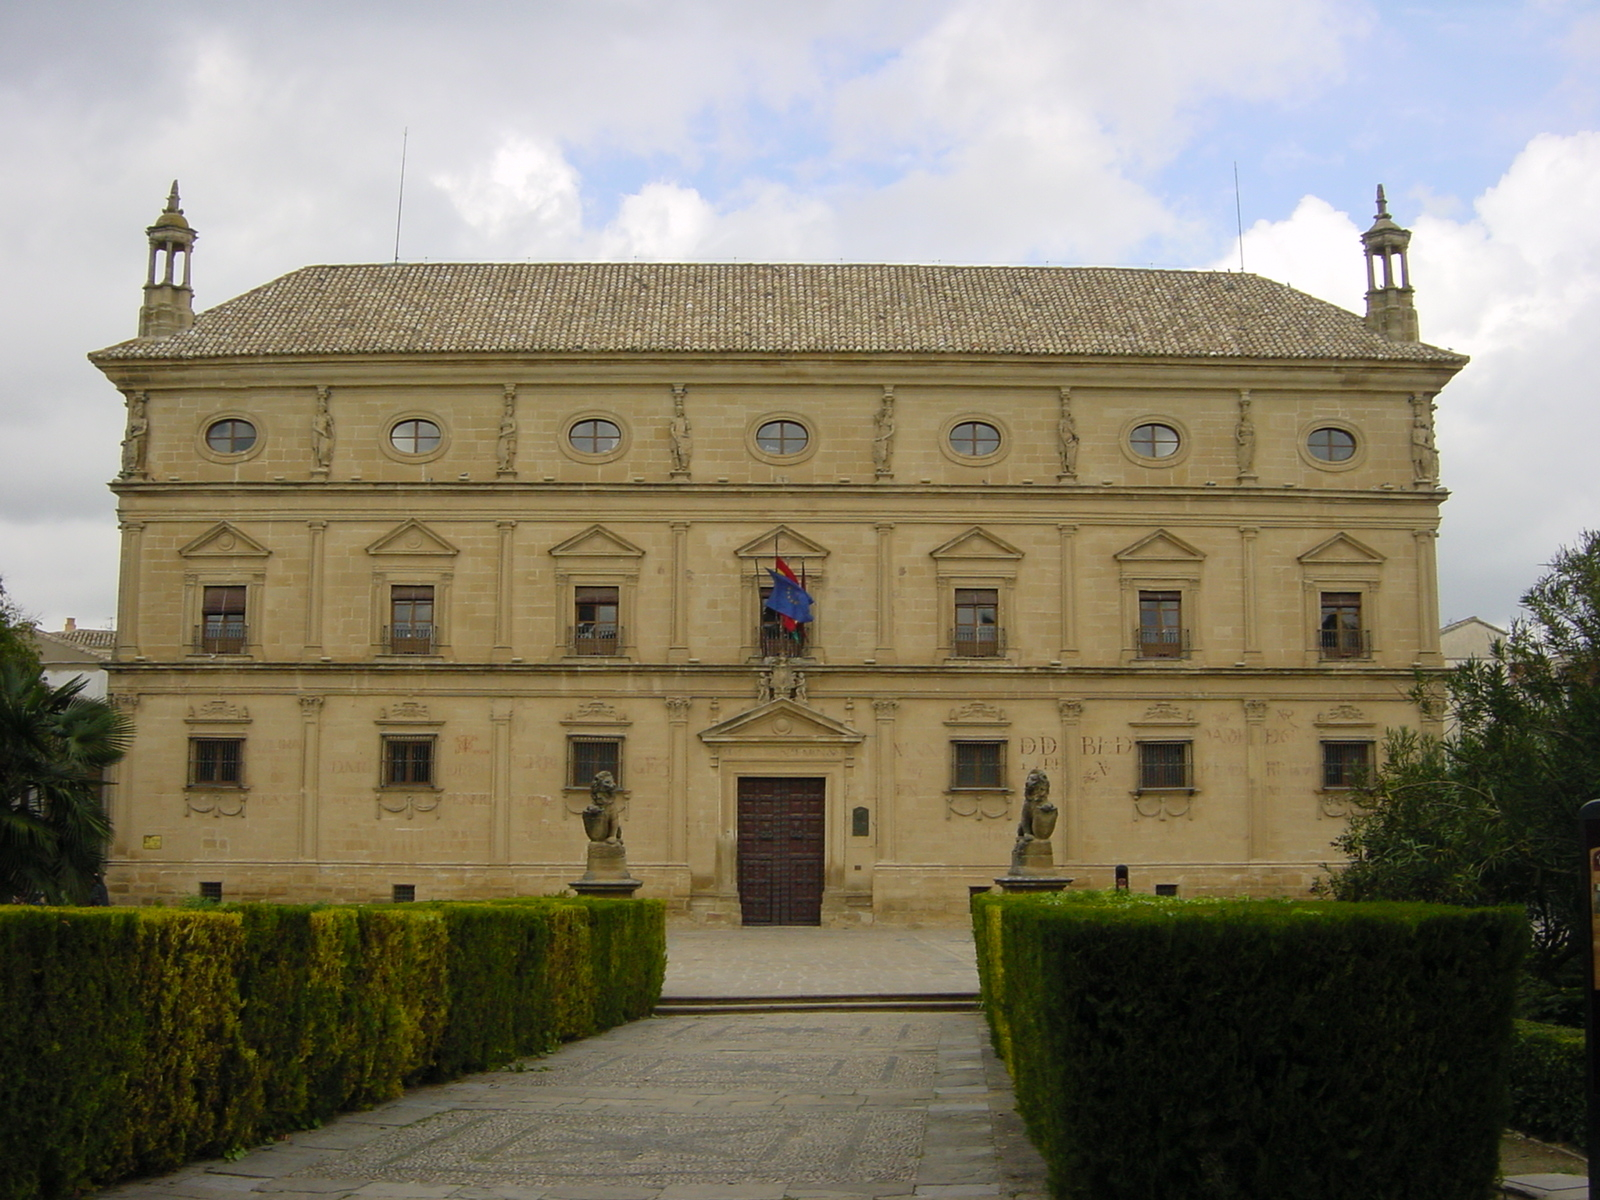fronton: (697, 698, 868, 750), (362, 516, 461, 561), (176, 517, 275, 562), (544, 521, 646, 561), (732, 523, 833, 563), (1111, 526, 1209, 566), (926, 526, 1029, 561), (1296, 529, 1390, 568)
ojo-de-buey: (554, 405, 634, 466), (1293, 413, 1369, 476), (939, 407, 1013, 469), (743, 408, 820, 466), (1119, 412, 1193, 471), (380, 407, 451, 465), (197, 407, 268, 463)
vano-adintelado: (714, 755, 850, 932), (551, 563, 643, 668), (367, 561, 456, 666), (934, 566, 1020, 671), (1117, 568, 1204, 669), (1299, 570, 1385, 671), (180, 565, 261, 661)
